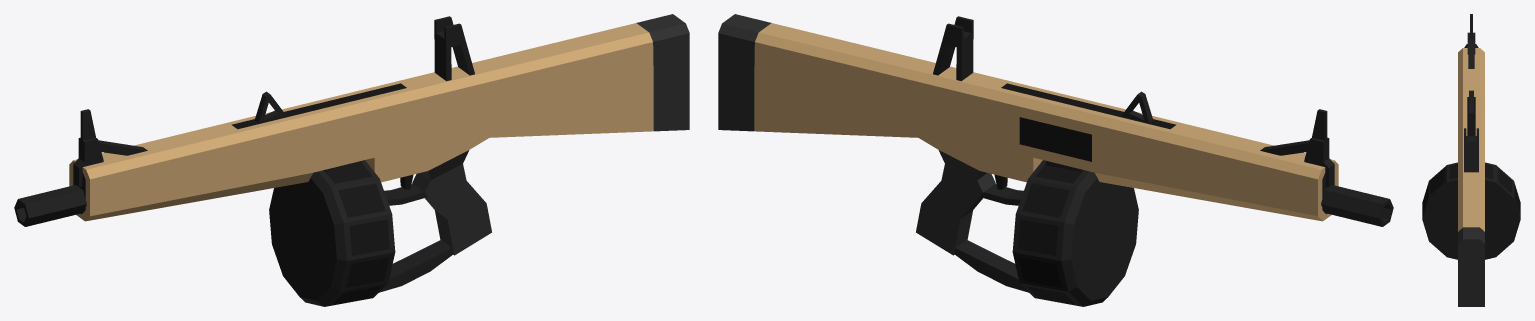
3 renders of one model, left to right at view 1: azimuth 30°, elevation 25°; view 2: azimuth 150°, elevation 25°; view 3: azimuth 270°, elevation 25°, orthographic. The views are drawn at different scales.
Visible parts, largest first — view 1: body.001, magazine_2, accessories.001, barrel.001, sight_rear.003, sight_front.003, bolt.013; view 2: body.001, magazine_2, accessories.001, barrel.001, holes.009, sight_rear.003, sight_front.003, bolt.013; view 3: body.001, magazine_2, sight_rear.003, sight_front.003, bolt.013.
Part boxes in pixels (left/top/right/bottom): body.001: left=69, top=14, right=689, bottom=255; magazine_2: left=269, top=160, right=395, bottom=306; accessories.001: left=73, top=172, right=453, bottom=292; barrel.001: left=14, top=185, right=86, bottom=226; sight_rear.003: left=434, top=16, right=474, bottom=81; sight_front.003: left=73, top=109, right=147, bottom=186; bolt.013: left=255, top=91, right=286, bottom=122; body.001: left=718, top=14, right=1338, bottom=255; magazine_2: left=1012, top=160, right=1138, bottom=306; accessories.001: left=954, top=172, right=1334, bottom=292; barrel.001: left=1321, top=185, right=1393, bottom=226; holes.009: left=1019, top=117, right=1091, bottom=161; sight_rear.003: left=933, top=16, right=973, bottom=81; sight_front.003: left=1260, top=109, right=1334, bottom=186; bolt.013: left=1121, top=91, right=1152, bottom=122; body.001: left=1458, top=48, right=1484, bottom=306; magazine_2: left=1422, top=162, right=1520, bottom=259; sight_rear.003: left=1464, top=128, right=1478, bottom=172; sight_front.003: left=1467, top=14, right=1475, bottom=68; bolt.013: left=1469, top=90, right=1473, bottom=112.
Size of the model in its own units: 187 by 342 by 947.
